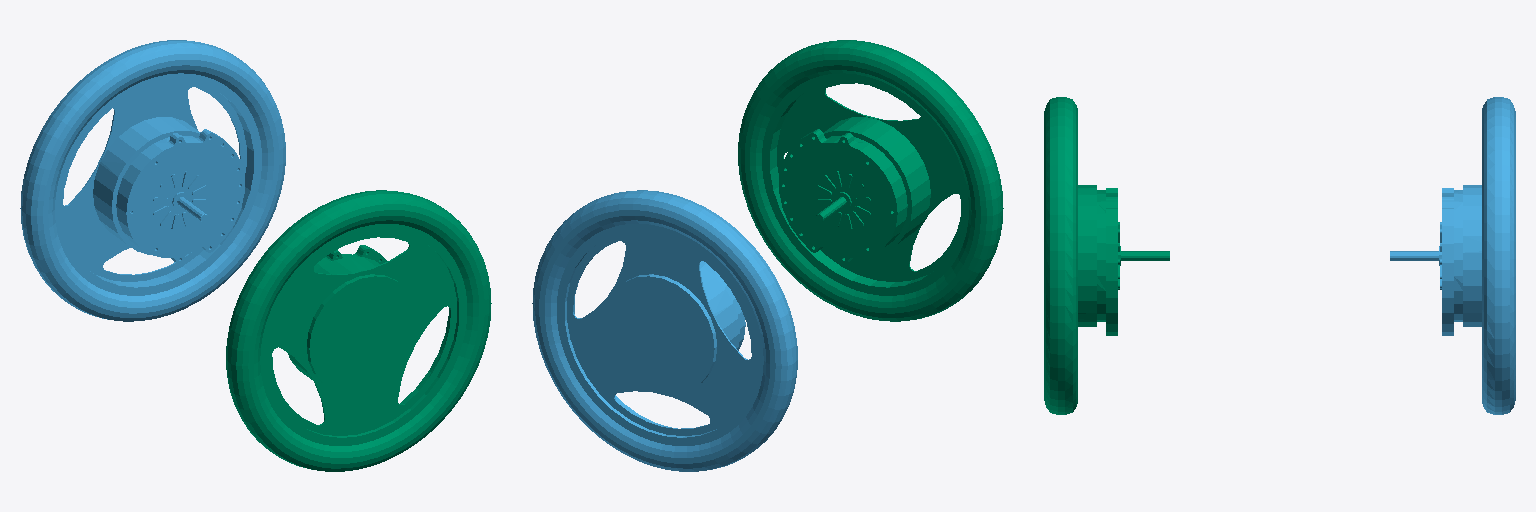
The robot description file, URDF, robot "qolo":
<?xml version="1.0" ?>
<!-- =================================================================================== -->
<!-- |    This document was autogenerated by xacro from xarco/qolo.urdf.xacro          | -->
<!-- |    EDITING THIS FILE BY HAND IS NOT RECOMMENDED                                 | -->
<!-- =================================================================================== -->
<robot name="qolo" xmlns:xacro="https://www.ros.org/wiki/xacro">
  <link name="qolo_main">
    <inertial>
      <origin rpy="0 0 0" xyz="-0.160 0 0.184"/>
      <mass value="50"/>
      <inertia ixx="22.23722770713" ixy="-0.04006835911" ixz="-0.02300035044" iyy="17.58011380849" iyz="-0.02387139307" izz="28.82981259528"/>
    </inertial>
    <visual>
      <geometry>
        <mesh filename="stl/qolo_main.stl" scale="1 1 1"/>
      </geometry>
      <origin rpy="0 0 0" xyz="0 0 0"/>
    </visual>
    <collision>
      <geometry>
        <mesh filename="stl/qolo_main.stl" scale="1 1 1"/>
      </geometry>
      <origin rpy="0 0 0" xyz="0 0 0"/>
    </collision>
  </link>
  <link name="wheel_right">
    <inertial>
      <origin rpy="0 0 0" xyz="0 0 0"/>
      <mass value="1.5"/>
      <inertia ixx="5.0001" ixy="0" ixz="0" iyy="1.0001" iyz="0" izz="5.0001"/>
    </inertial>
    <visual>
      <geometry>
        <mesh filename="stl/qolo_wheel.stl" scale="1 1 1"/>
      </geometry>
      <origin rpy="1.57079632679 0 0" xyz="0 0 0"/>
    </visual>
    <collision>
      <geometry>
        <mesh filename="stl/qolo_wheel.stl" scale="1 1 1"/>
      </geometry>
      <origin rpy="1.57079632679 0 0" xyz="0 0 0"/>
    </collision>
  </link>
  <joint name="qolo_main_to_wheel_right" type="continuous">
    <parent link="qolo_main"/>
    <child link="wheel_right"/>
    <origin xyz="0 0.2 0"/>
    <axis xyz="0 1 0"/>
  </joint>
  <link name="wheel_left">
    <inertial>
      <origin rpy="0 0 0" xyz="0 0 0"/>
      <mass value="1.5"/>
      <inertia ixx="5.0001" ixy="0" ixz="0" iyy="1.0001" iyz="0" izz="5.0001"/>
    </inertial>
    <visual>
      <geometry>
        <mesh filename="stl/qolo_wheel.stl" scale="1 1 1"/>
      </geometry>
      <origin rpy="-1.57079632679 0 0" xyz="0 0 0"/>
    </visual>
    <collision>
      <geometry>
        <mesh filename="stl/qolo_wheel.stl" scale="1 1 1"/>
      </geometry>
      <origin rpy="-1.57079632679 0 0" xyz="0 0 0"/>
    </collision>
  </link>
  <joint name="qolo_main_to_wheel_left" type="continuous">
    <parent link="qolo_main"/>
    <child link="wheel_left"/>
    <origin xyz="0 -0.2 0"/>
    <axis xyz="0 1 0"/>
  </joint>
  <link name="bumper">
    <inertial>
      <origin rpy="0 0 0" xyz="0 0 0"/>
      <mass value="1.5"/>
      <inertia ixx="0.02155077848" ixy="0.00000859993" ixz="0.00000332812" iyy="0.03332543416" iyz="0.00575422413" izz="0.04216038950"/>
    </inertial>
    <visual>
      <geometry>
        <mesh filename="stl/bumper.stl" scale="1 1 1"/>
      </geometry>
      <origin rpy="0 0 1.57079632679" xyz="0 0 0"/>
    </visual>
    <collision>
      <geometry>
        <mesh filename="stl/bumper.stl" scale="1 1 1"/>
      </geometry>
      <origin rpy="0 0 1.57079632679" xyz="0 0 0"/>
    </collision>
  </link>
  <joint name="qolo_main_to_bumper" type="fixed">
    <parent link="qolo_main"/>
    <child link="bumper"/>
    <origin xyz="0.035 0 0.015"/>
    <axis xyz="1 0 0"/>
  </joint>
</robot>

--- What the picture shows (computed from the rendered views, not written in the file) ---
Views: 3 orthographic renders of the robot side by side, from view 1: azimuth 30°, elevation 25°; view 2: azimuth 150°, elevation 25°; view 3: azimuth 270°, elevation 25°.
Robot: qolo — 4 links, 3 joints (2 continuous, 1 fixed); root link qolo_main; default pose: all joints at 0.
Links seen in each view (by area): view 1: wheel_right, wheel_left; view 2: wheel_left, wheel_right; view 3: wheel_right, wheel_left.
Link boxes in pixels (x1,y1,x2,y2): wheel_right: (20,40,285,321); wheel_left: (226,190,491,471); wheel_left: (738,40,1003,321); wheel_right: (532,190,797,471); wheel_right: (1390,97,1515,414); wheel_left: (1044,97,1169,414).
Bounding box of the posed robot: 0.3993 × 0.5914 × 0.3986 m (x, y, z).
Meshes: 3 distinct files referenced, 2 mesh visuals loaded (1 binary STL); not drawn: 2 (reference not matched to a file when rendering).